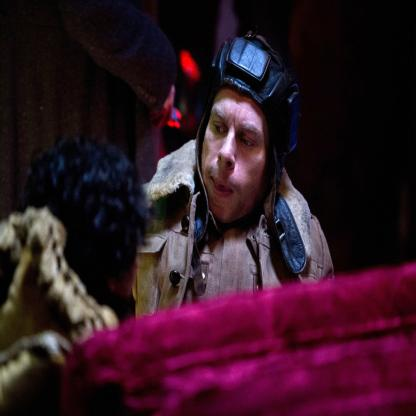Helmet: (199, 22, 299, 238)
